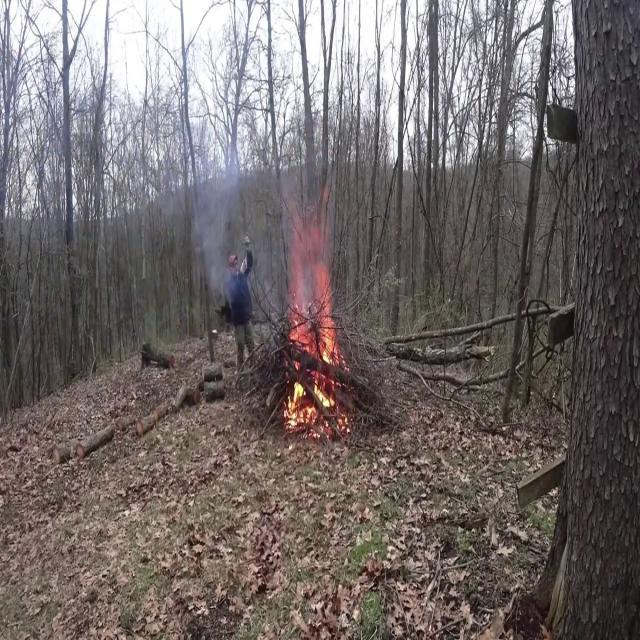Fire: (282, 299, 346, 435), (281, 337, 345, 433), (282, 366, 344, 432)
